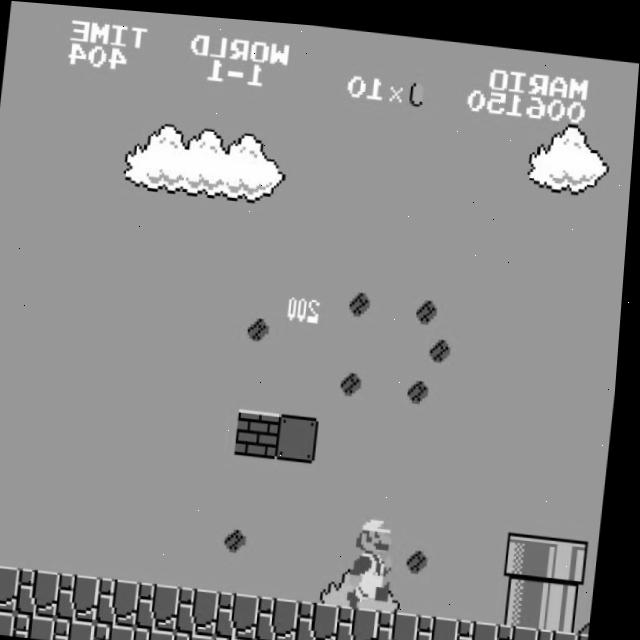1- brick_block: (240, 404, 286, 454)
14- pipe: (547, 572, 592, 622), (507, 568, 552, 618)
15- pipe_head: (511, 523, 557, 572), (551, 527, 596, 577)
17- undestructible_block: (263, 590, 309, 640), (143, 578, 189, 628), (103, 574, 149, 624), (63, 570, 109, 620), (23, 567, 69, 617), (223, 587, 269, 636), (183, 583, 229, 632), (303, 594, 349, 640), (343, 598, 389, 640), (383, 602, 428, 640), (423, 606, 468, 640), (0, 563, 29, 612), (463, 610, 508, 640), (503, 614, 548, 640), (22, 612, 65, 639), (62, 616, 105, 640), (542, 618, 588, 640), (102, 620, 145, 640), (141, 624, 185, 640), (0, 608, 25, 635), (181, 628, 225, 640), (221, 632, 265, 640), (582, 622, 597, 640), (261, 635, 304, 640), (301, 640, 344, 640)
3- empty_block: (280, 408, 326, 458)
4- fire_mario: (354, 514, 406, 612)
